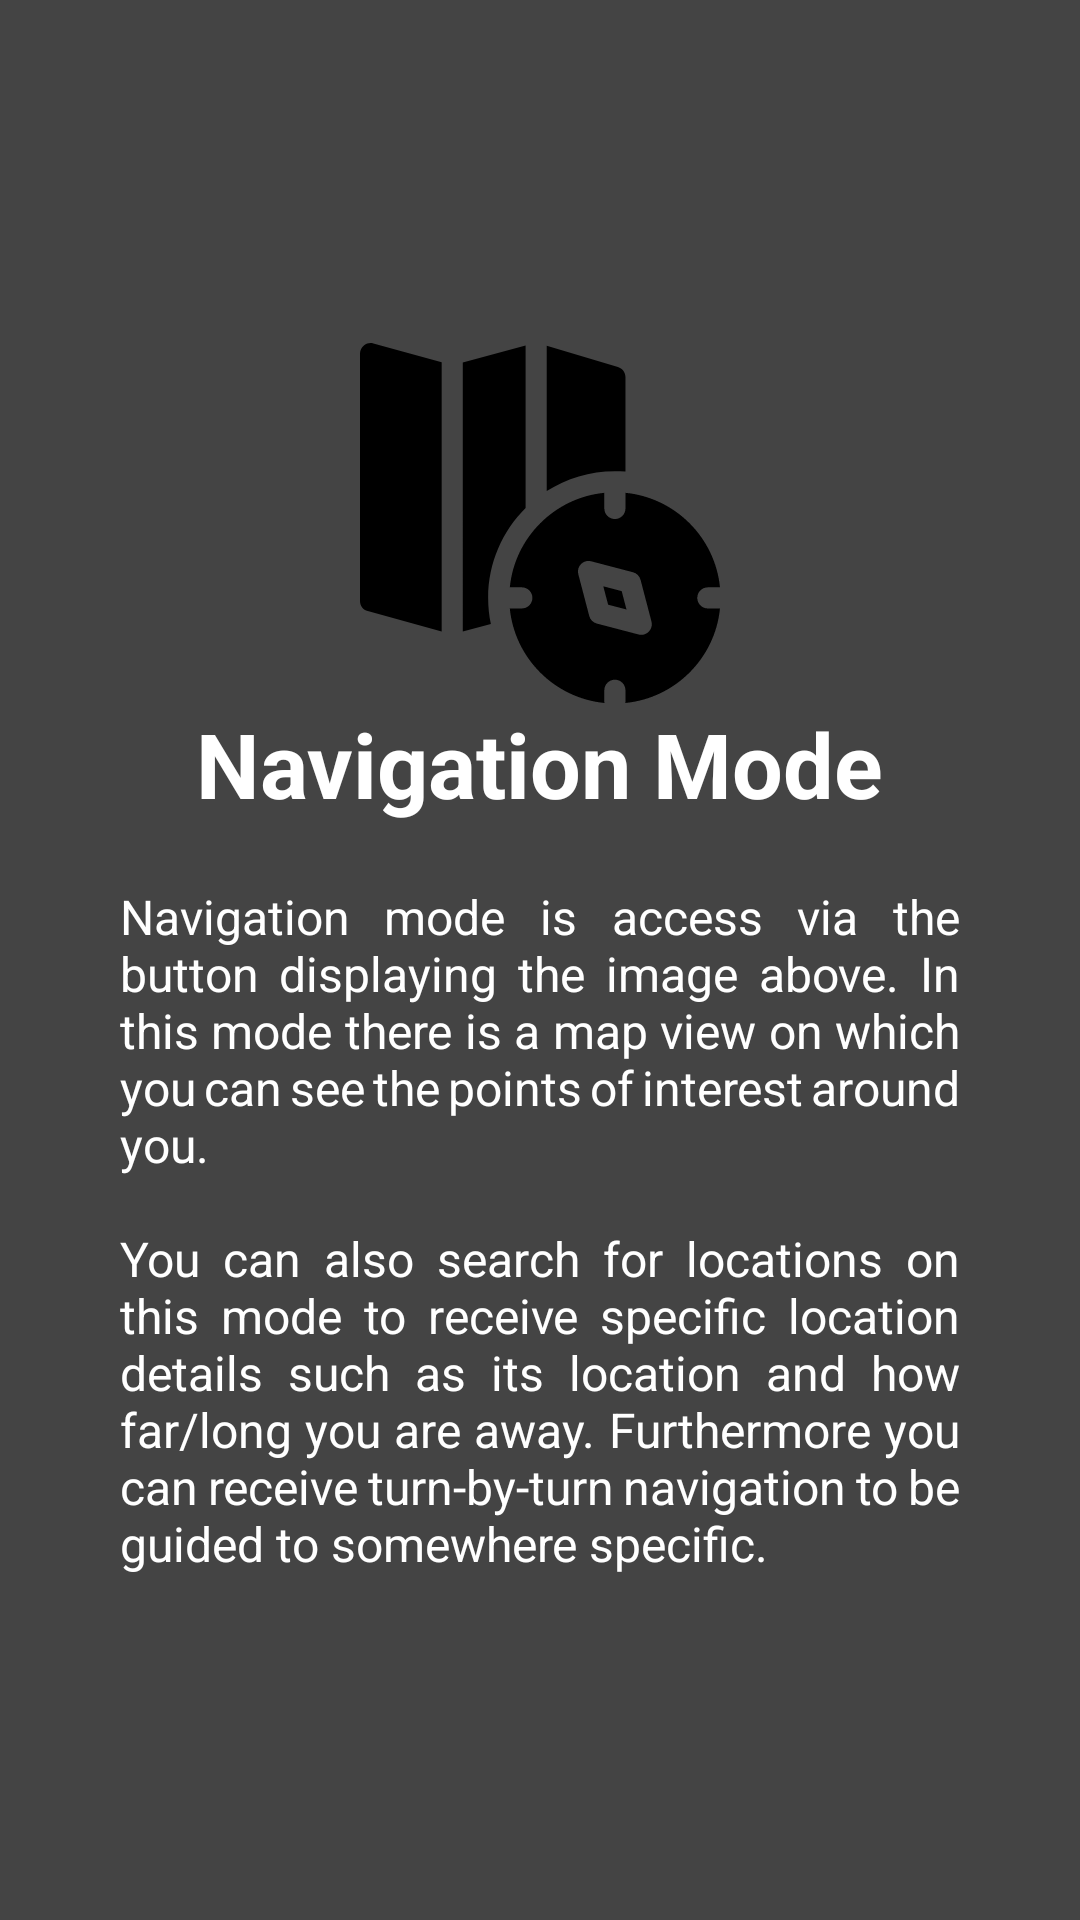

Icons on this 1080w x 1920h Android screen, each with its box as (x1=x1, y1=y1, x2=x2, y2=y2):
map: (x1=360, y1=343, x2=720, y2=703)
